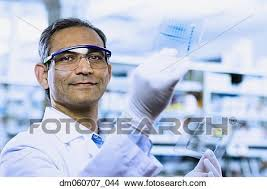Indian_Male: (39, 17, 114, 106)
